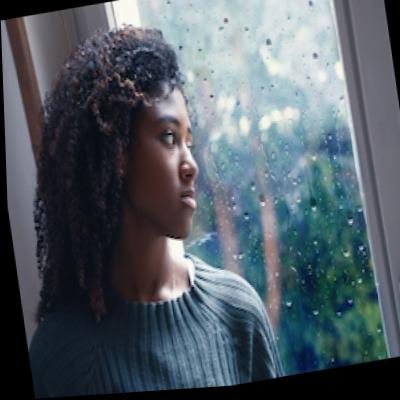sad: (120, 77, 206, 247)
